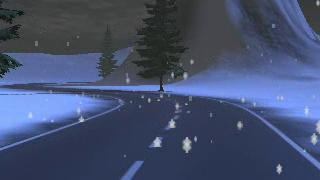Lane: (0, 82, 319, 178)
